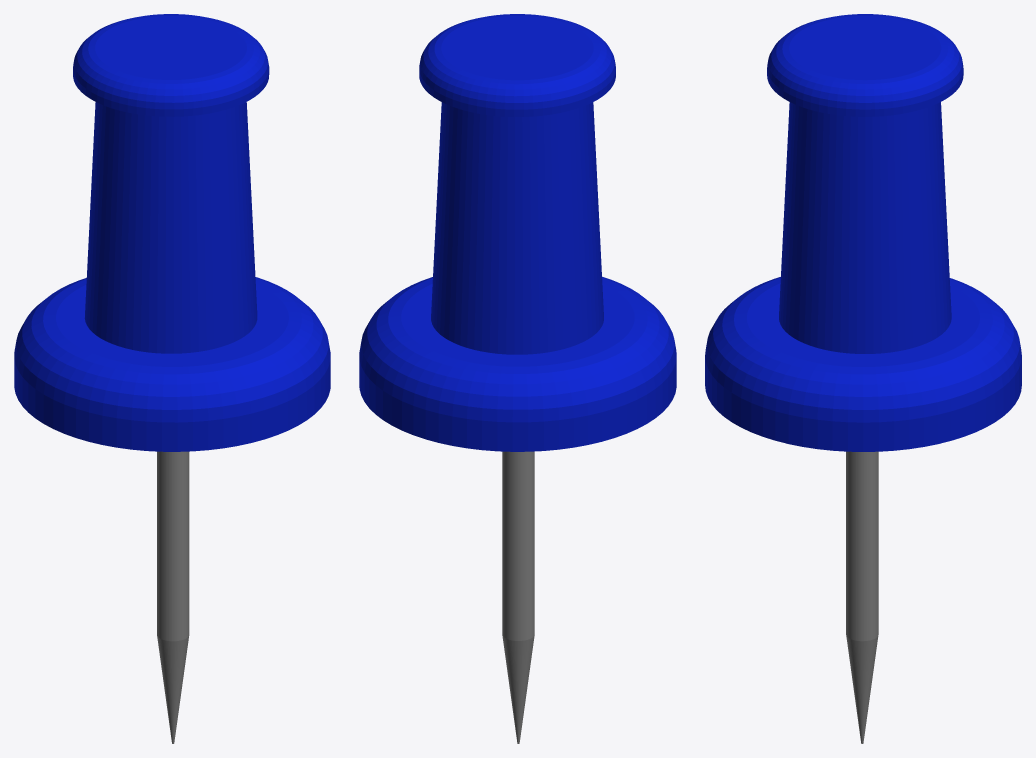
The model's file is Pin blue.fbx.
3 views of the same model, side by side, from view 1: azimuth 30°, elevation 25°; view 2: azimuth 150°, elevation 25°; view 3: azimuth 270°, elevation 25° (orthographic).
Parts seen in each view (by area): view 1: pin, needle; view 2: pin, needle; view 3: pin, needle.
Part boxes in pixels (<box>): pin: <box>14,14,330,451</box>; needle: <box>157,451,189,743</box>; pin: <box>359,14,676,451</box>; needle: <box>502,451,534,743</box>; pin: <box>705,14,1021,451</box>; needle: <box>846,451,878,743</box>.
Bounding box in the file's own units: 87.5 × 212 × 87.5.
